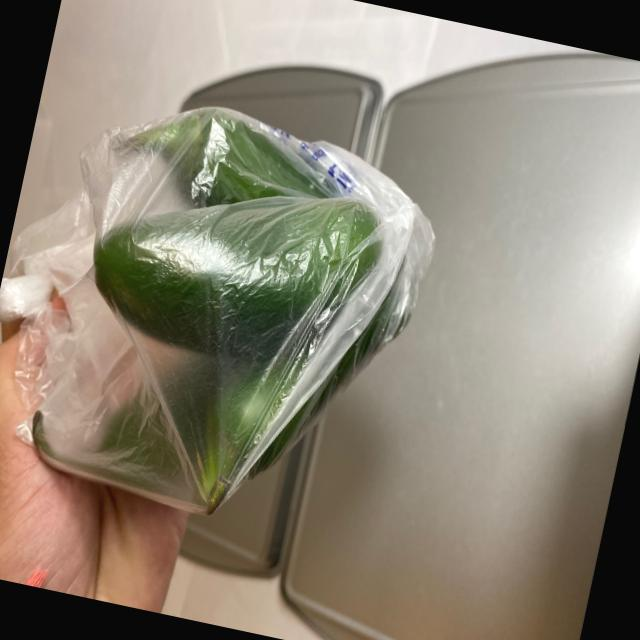chilli: (2, 70, 455, 566)
